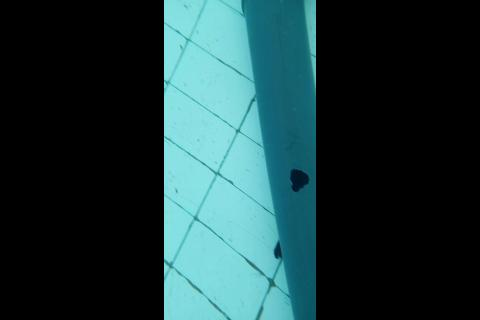kebocoran: (288, 167, 311, 192)
